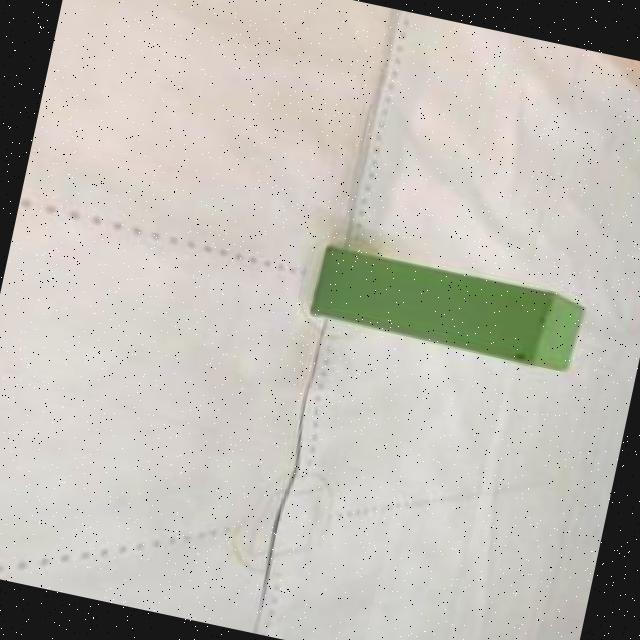greenbox: (304, 242, 588, 374)
